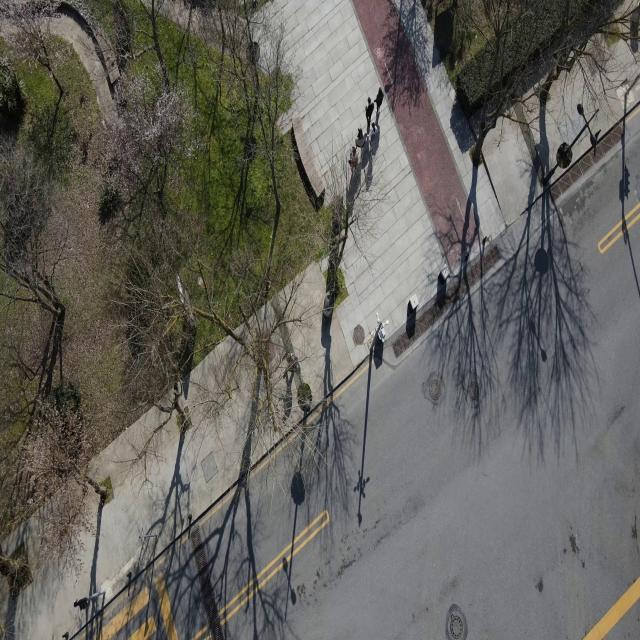p3rson: (355, 126, 365, 160), (368, 122, 378, 154), (349, 145, 359, 176), (364, 96, 373, 129), (374, 87, 384, 116)
